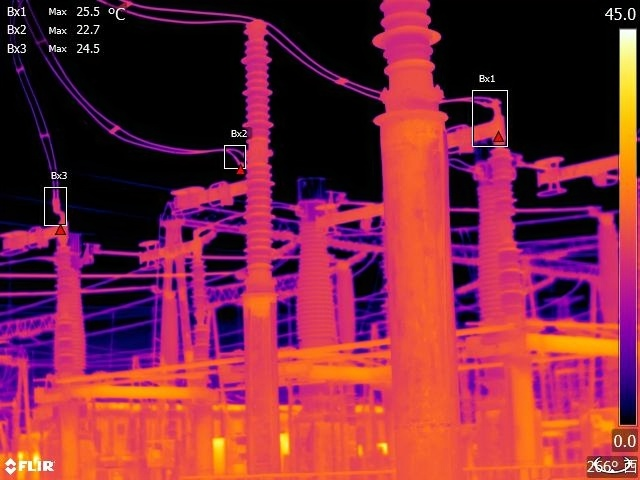circuit breaker: (591, 206, 618, 323)
current transformer: (290, 166, 346, 349), (473, 137, 514, 319)
post insulator: (240, 17, 284, 313), (53, 243, 80, 377), (485, 143, 521, 243), (190, 251, 212, 357)
switch: (533, 138, 618, 203), (167, 171, 247, 218), (1, 213, 69, 260), (448, 111, 511, 156), (136, 232, 208, 264)
